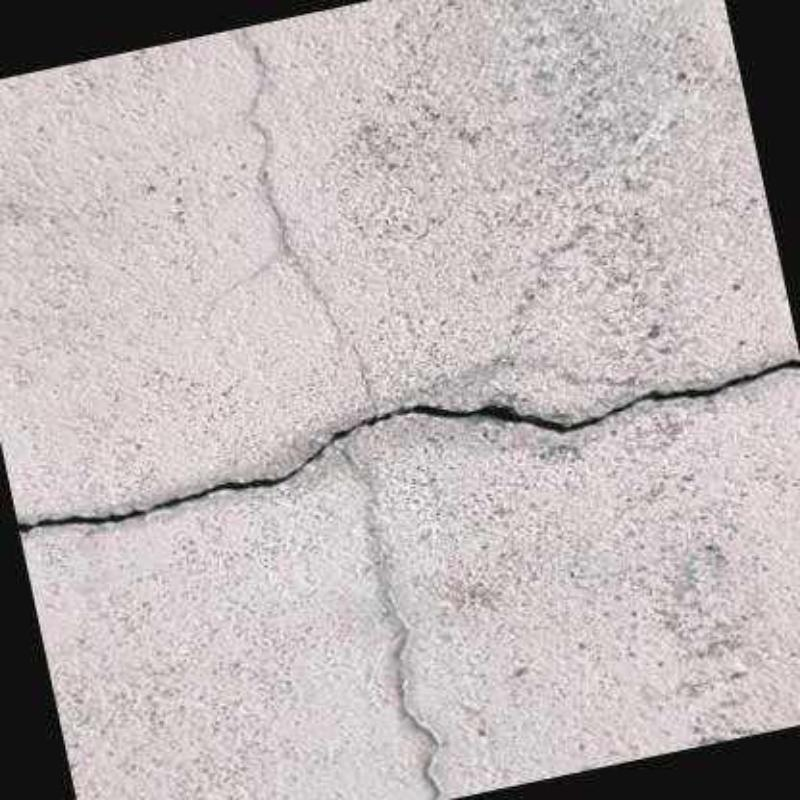pothole: (16, 356, 798, 529), (240, 27, 342, 338), (390, 596, 442, 798), (350, 346, 375, 408)
